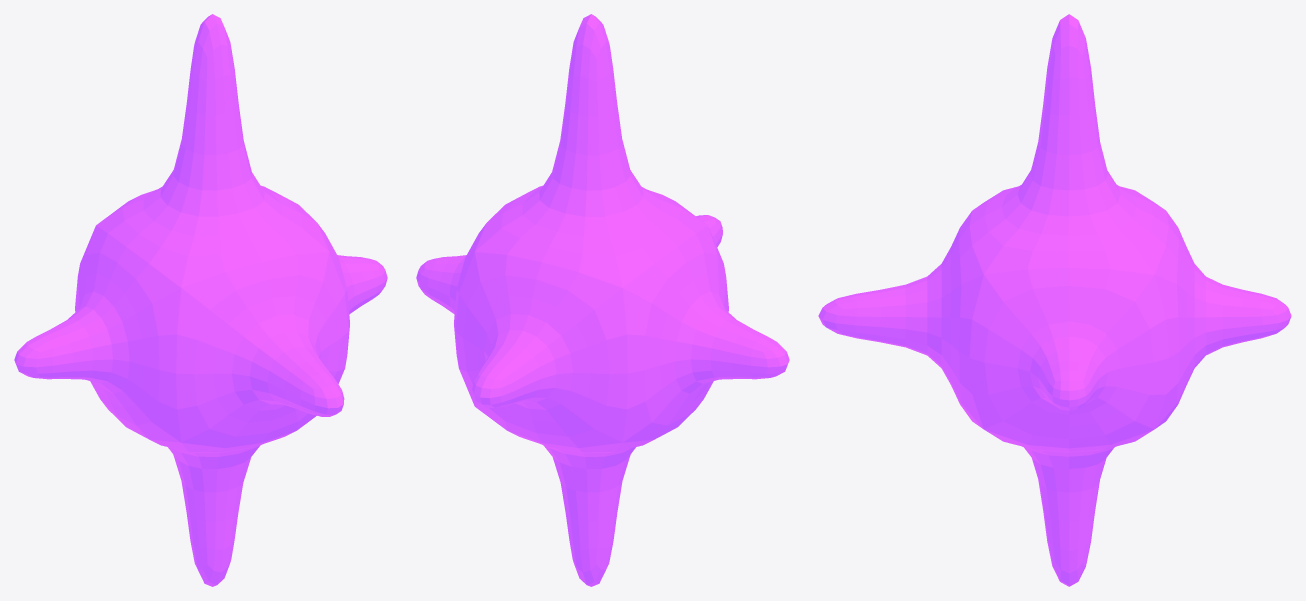
Rendered from SniperProyectile.fbx.
The picture shows the model from 3 angles, left to right: view 1: azimuth 30°, elevation 25°; view 2: azimuth 150°, elevation 25°; view 3: azimuth 270°, elevation 25°; orthographic projection.
Parts seen in each view (by area): view 1: Cube; view 2: Cube; view 3: Cube.
Boxes of the visible parts, x1,y1,x2,y2 form: Cube: [14, 14, 387, 586]; Cube: [416, 14, 789, 586]; Cube: [818, 14, 1291, 586].
Size of the model in its own units: 362 by 537 by 402.
